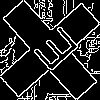E: (25, 25, 81, 80)
